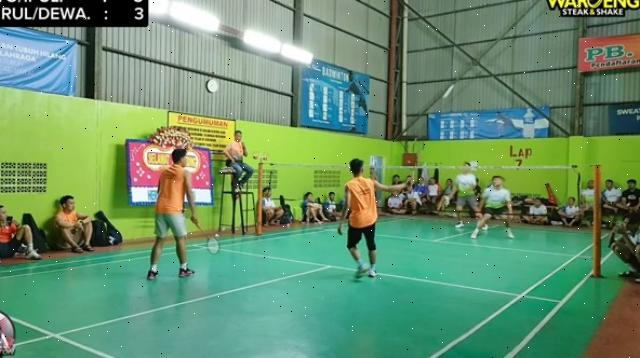Shuttlecock: (438, 78, 458, 100)
